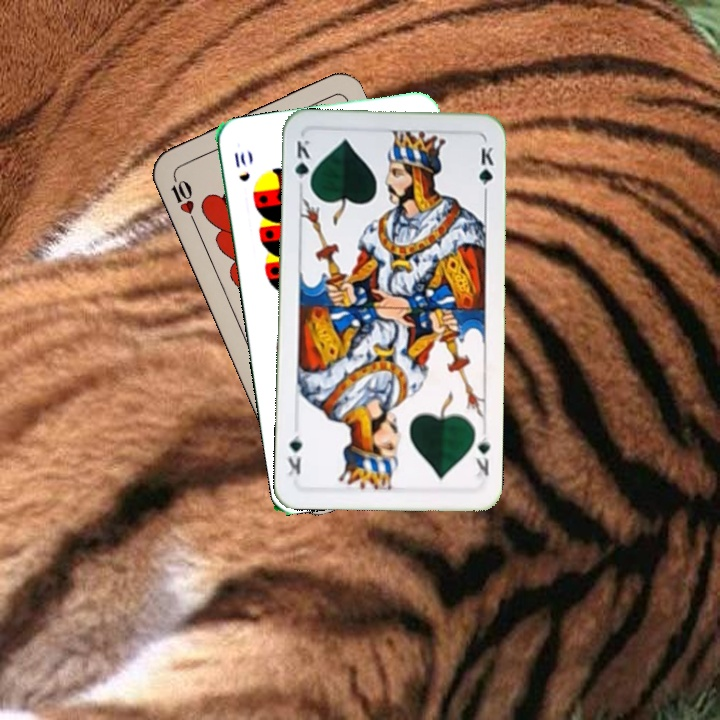GK: (291, 136, 313, 193), (471, 432, 494, 483)
H10: (167, 170, 199, 226)
S10: (230, 148, 252, 184)
